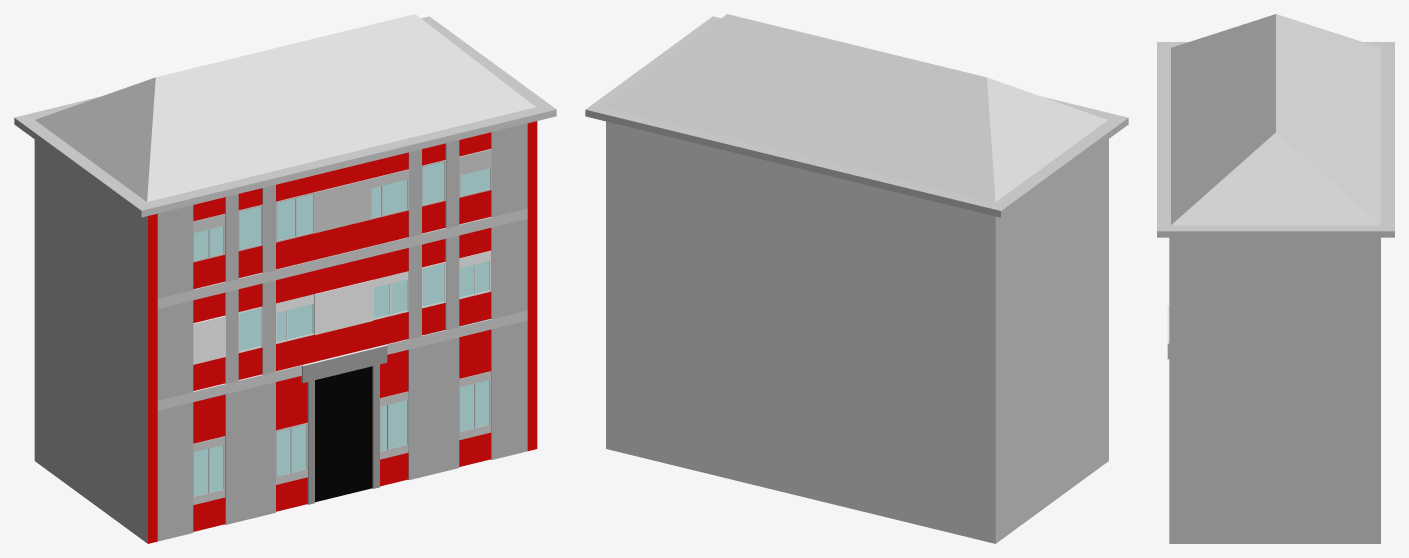
Rendered from Casa Giobbe.obj.
3 views of the same model, side by side, from view 1: azimuth 30°, elevation 25°; view 2: azimuth 150°, elevation 25°; view 3: azimuth 270°, elevation 25° (orthographic). The views are drawn at different scales.
Parts seen in each view (by area): view 1: Mesh19 Model, Mesh8 Group4 Model, Mesh14 Group8 Model, Mesh4 Group5 Group4 Model, Mesh12 Group9 Group8 Model, Mesh13 Group10 Group8 Model, Mesh5 Group6 Group4 Model, Mesh1 Group1 Model, Mesh3 Group3 Model, Mesh2 Group2 Model, Mesh18 Group11 Model, Mesh7 Group7 Group4 Model (+1 smaller); view 2: Mesh6 Group6 Group4 Model, Mesh19 Model; view 3: Mesh19 Model.
Part boxes in pixels (bbox=[...]): Mesh19 Model: bbox=[14, 14, 556, 543]; Mesh8 Group4 Model: bbox=[276, 228, 491, 371]; Mesh14 Group8 Model: bbox=[276, 152, 408, 269]; Mesh4 Group5 Group4 Model: bbox=[408, 228, 491, 339]; Mesh12 Group9 Group8 Model: bbox=[408, 132, 491, 237]; Mesh13 Group10 Group8 Model: bbox=[193, 185, 275, 289]; Mesh5 Group6 Group4 Model: bbox=[193, 280, 275, 390]; Mesh1 Group1 Model: bbox=[193, 436, 225, 504]; Mesh3 Group3 Model: bbox=[459, 371, 491, 440]; Mesh2 Group2 Model: bbox=[276, 422, 307, 484]; Mesh18 Group11 Model: bbox=[370, 169, 408, 219]; Mesh7 Group7 Group4 Model: bbox=[276, 294, 314, 343]; Mesh6 Group6 Group4 Model: bbox=[606, 121, 995, 543]; Mesh19 Model: bbox=[585, 14, 1128, 543]; Mesh19 Model: bbox=[1157, 14, 1394, 543].
Bounding box in the file's own units: 0.2534 × 0.2386 × 0.1346.
